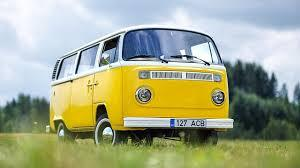volkswagen: (45, 25, 233, 154)
